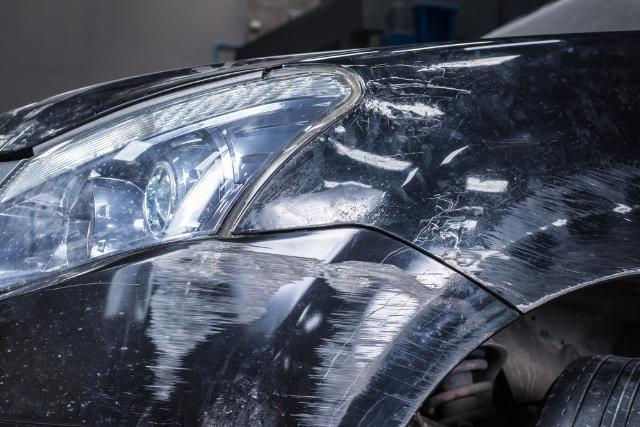scratch: (143, 240, 508, 427), (467, 156, 640, 311)
